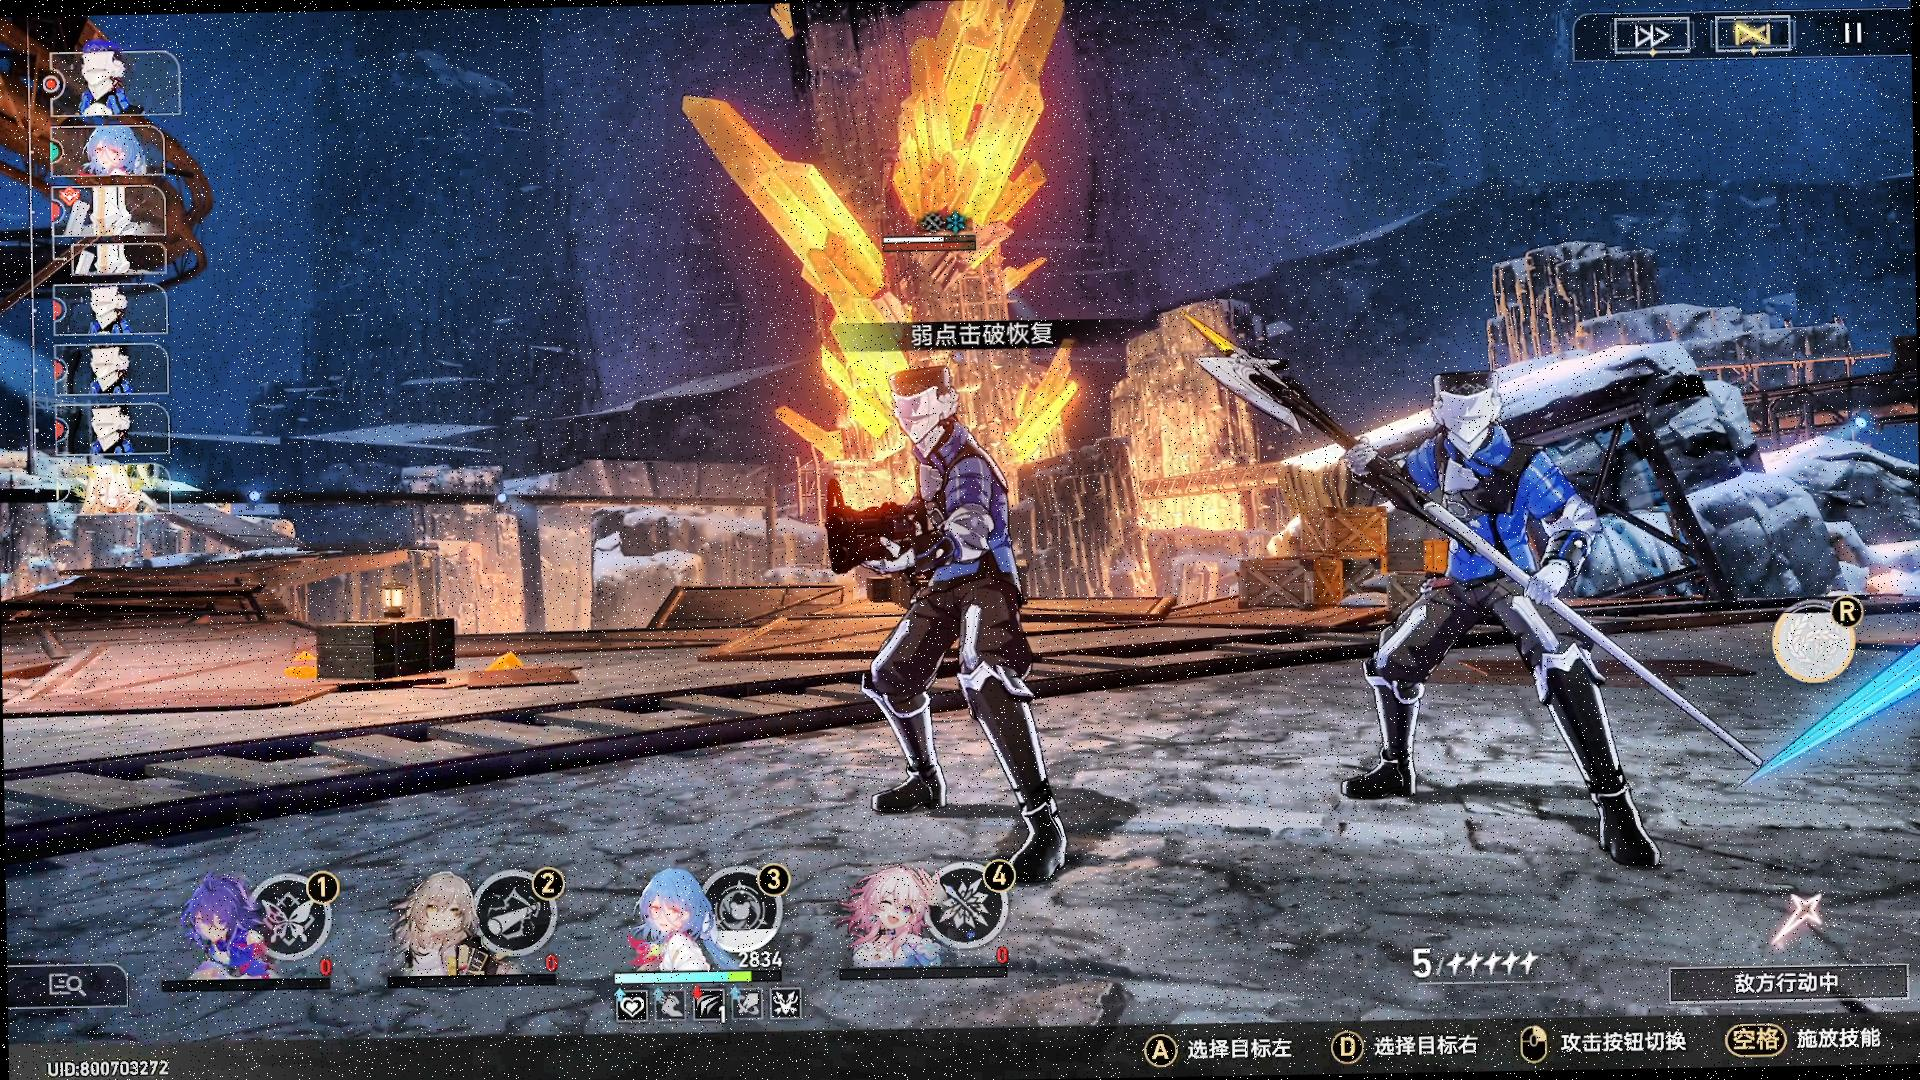Enemy: (1271, 331, 1689, 868), (804, 343, 1100, 890)
